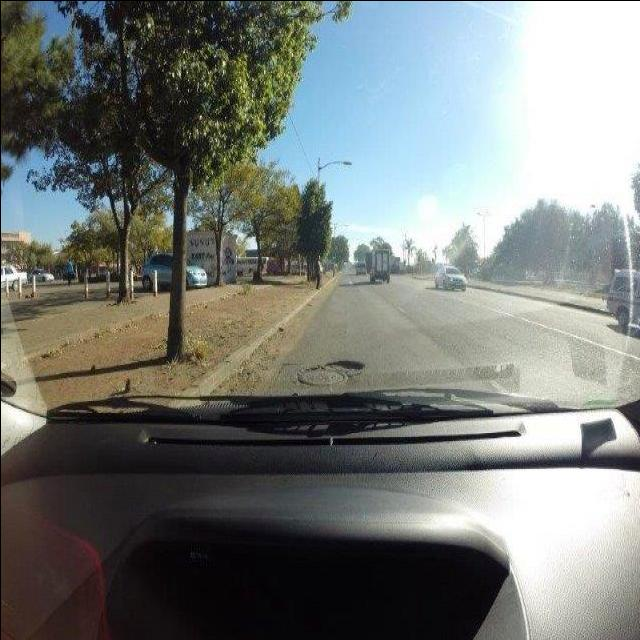lubang: (283, 356, 373, 388)
